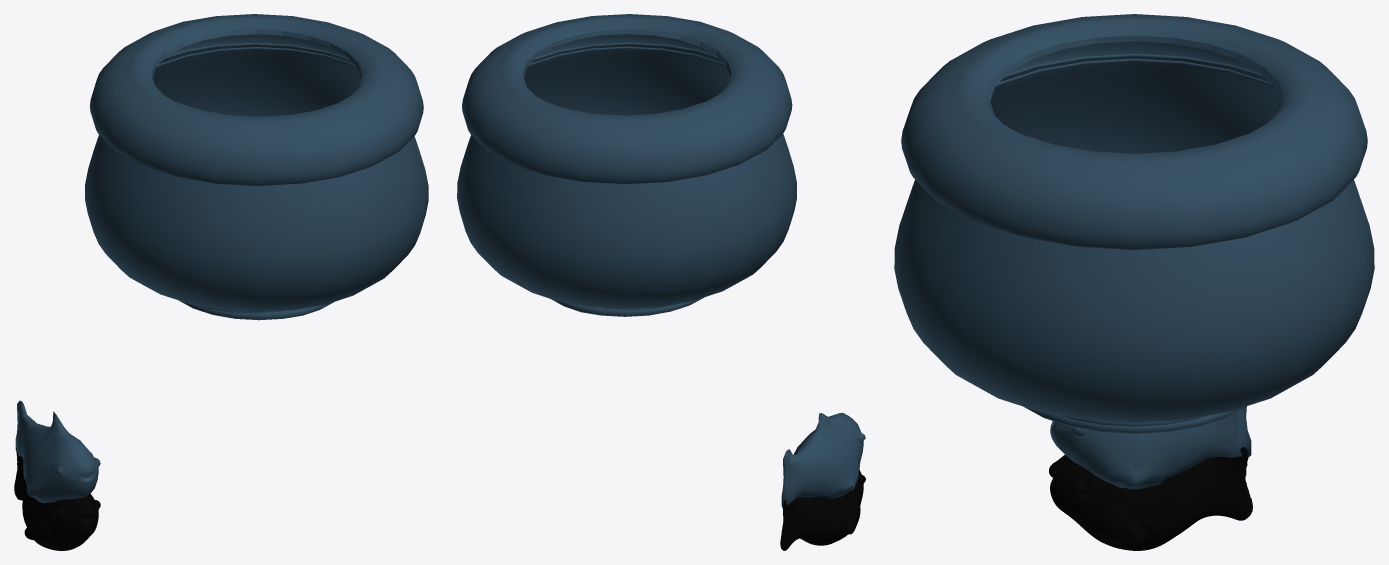
Rendered from Fishbowl.obj.
3 renders of one model, left to right at view 1: azimuth 30°, elevation 25°; view 2: azimuth 150°, elevation 25°; view 3: azimuth 270°, elevation 25°, orthographic. The views are drawn at different scales.
Parts seen in each view (by area): view 1: FishbowlMesh, FishMesh, GoldfishMesh; view 2: FishbowlMesh, FishMesh, GoldfishMesh; view 3: FishbowlMesh, GoldfishMesh, FishMesh.
Boxes of the visible parts, box(x1,y1,x2,y2) form: FishbowlMesh: box(85, 14, 428, 320); FishMesh: box(15, 400, 100, 502); GoldfishMesh: box(14, 446, 100, 550); FishbowlMesh: box(457, 14, 796, 316); FishMesh: box(781, 412, 865, 506); GoldfishMesh: box(780, 469, 865, 550); FishbowlMesh: box(894, 14, 1374, 433); GoldfishMesh: box(1049, 447, 1252, 550); FishMesh: box(1050, 406, 1251, 489).
Bounding box in the file's own units: 35.72 × 38.9 × 28.53.
